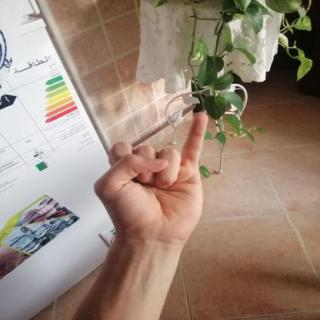MEEM: (80, 104, 218, 253)
